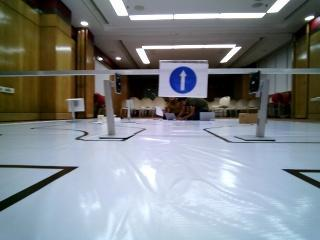straight: (159, 62, 208, 98)
